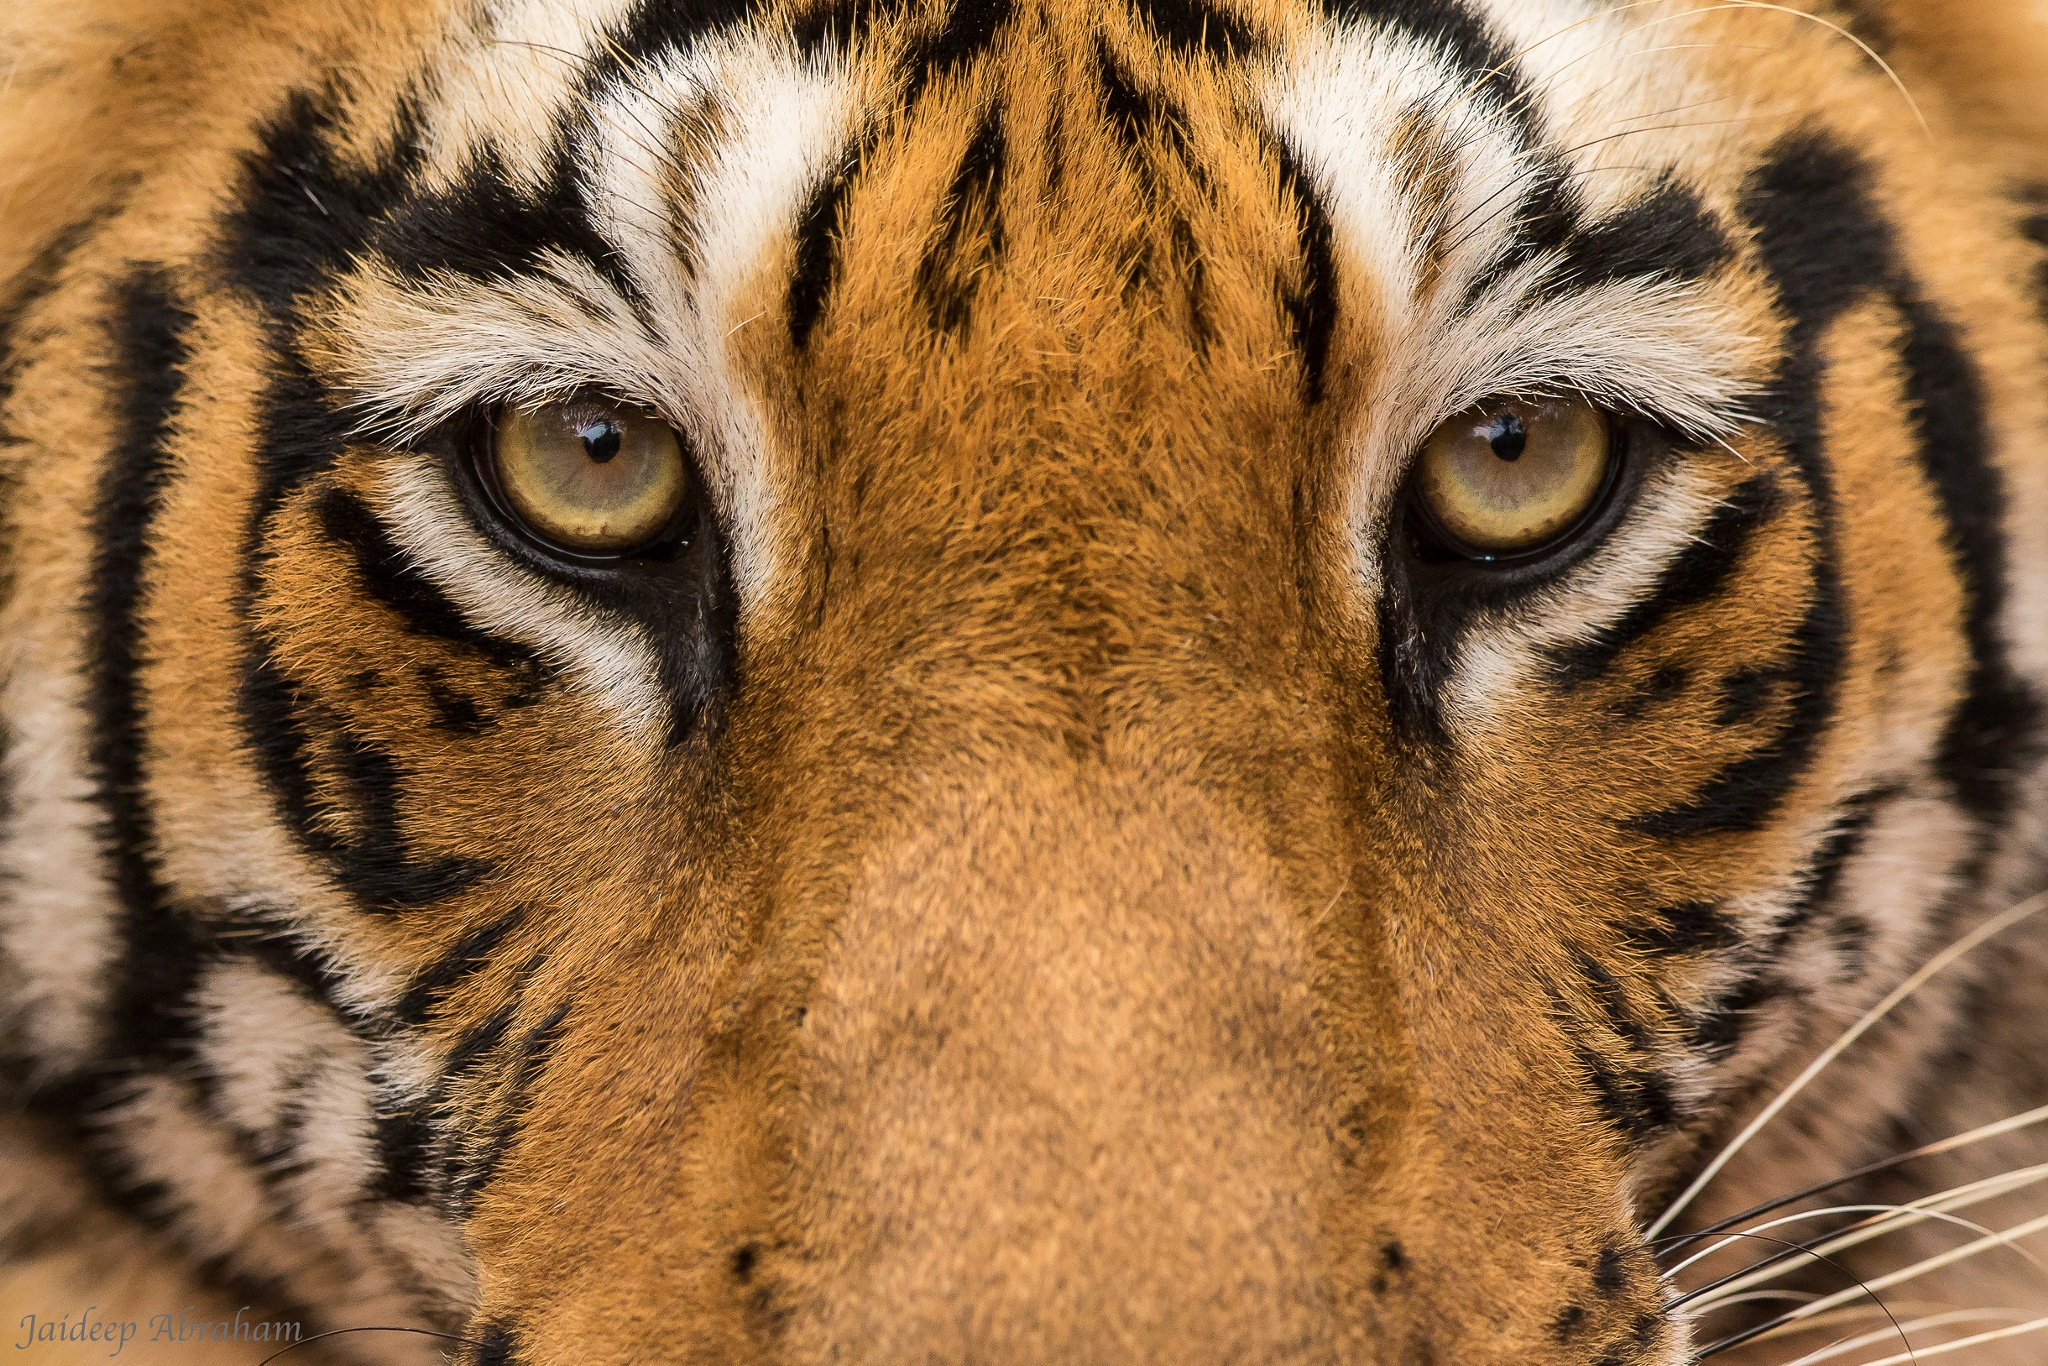tiger: (94, 29, 1963, 1261)
